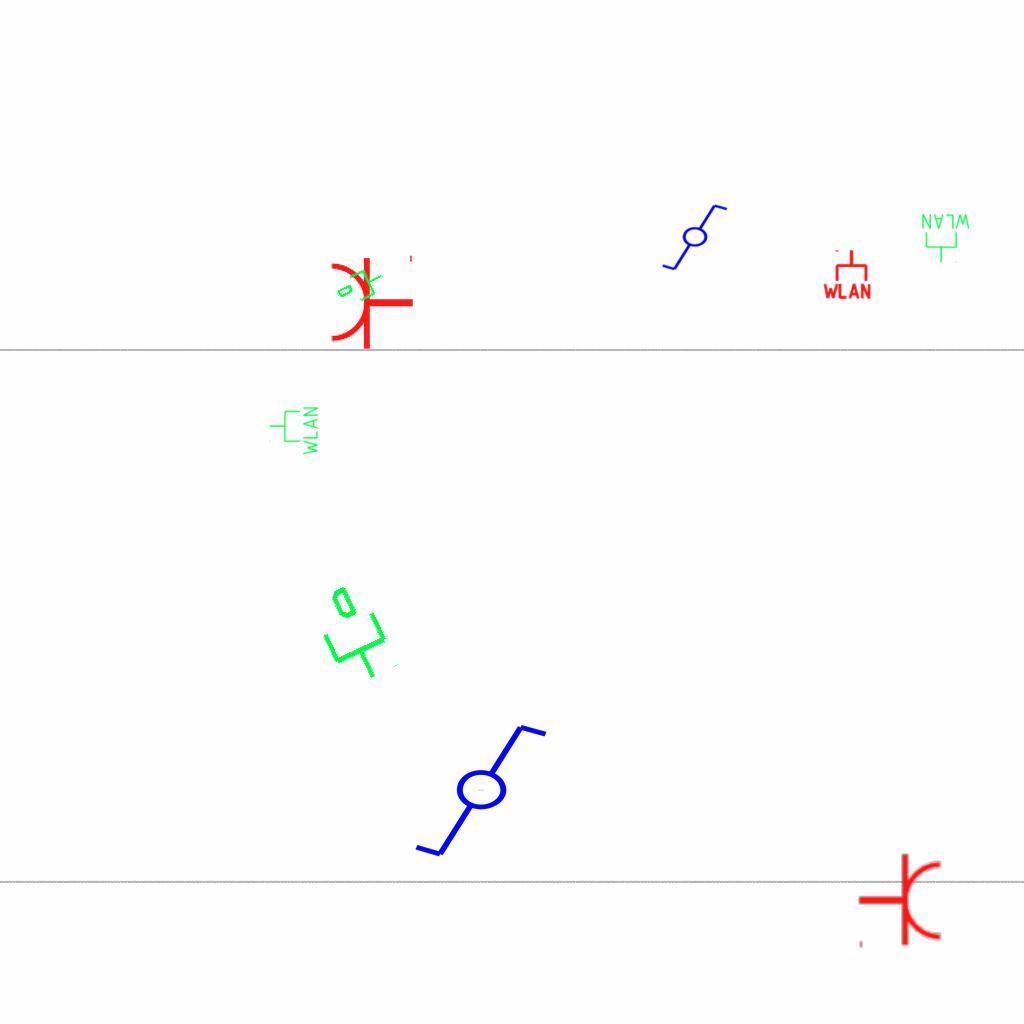Datenanschluss_einfach: (299, 575, 404, 695), (331, 260, 391, 314)
Schukosteckdose_einfach: (328, 251, 415, 351), (857, 852, 944, 952)
WLAN: (920, 212, 972, 264), (821, 248, 873, 300), (268, 405, 320, 457)
Wechselschalter: (411, 720, 568, 864), (660, 202, 738, 274)
